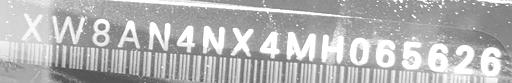letter: (50, 13, 86, 46), (282, 30, 318, 61), (198, 23, 226, 56), (318, 33, 346, 64), (19, 10, 45, 43), (256, 27, 282, 60), (144, 21, 172, 50), (399, 40, 425, 71), (230, 25, 254, 58), (426, 41, 450, 74), (452, 44, 476, 77), (88, 18, 114, 47), (116, 19, 142, 48), (372, 39, 398, 68), (346, 36, 370, 67), (478, 47, 504, 75), (173, 23, 197, 52)
